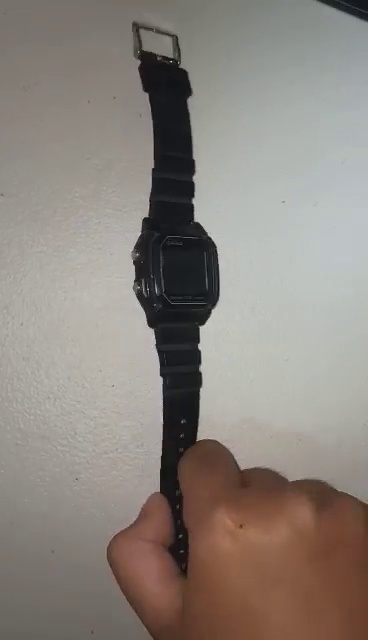watch: (133, 19, 220, 450)
